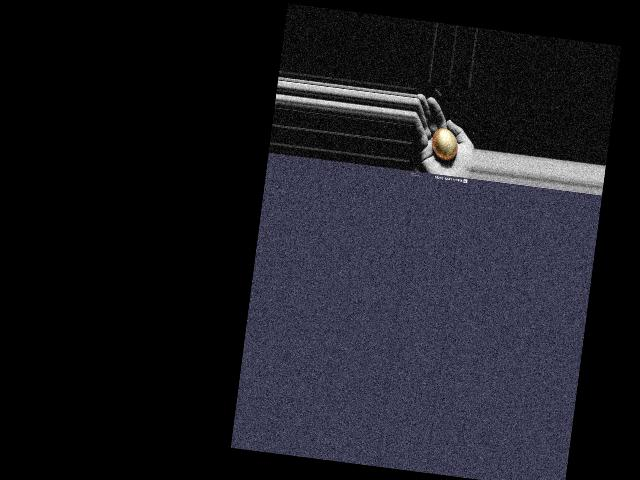egg: (429, 126, 459, 160)
